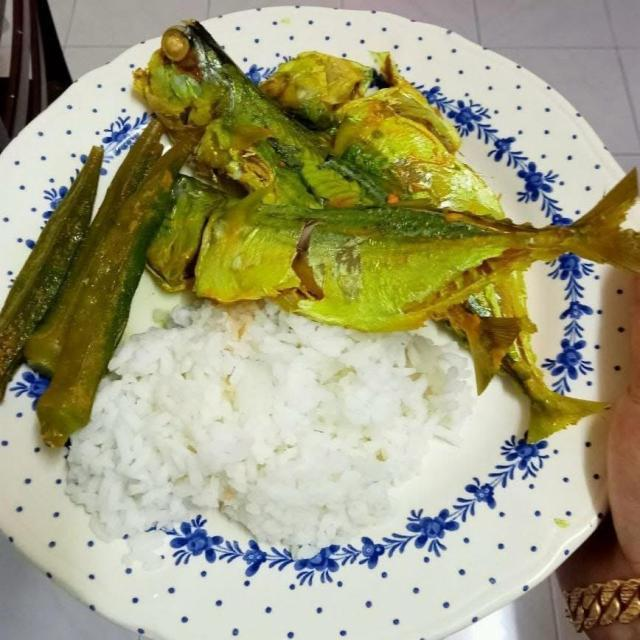Fish: (132, 21, 639, 450)
Plate: (0, 366, 602, 639)
Rice: (67, 300, 476, 546)
Vegetables: (0, 117, 203, 450)
